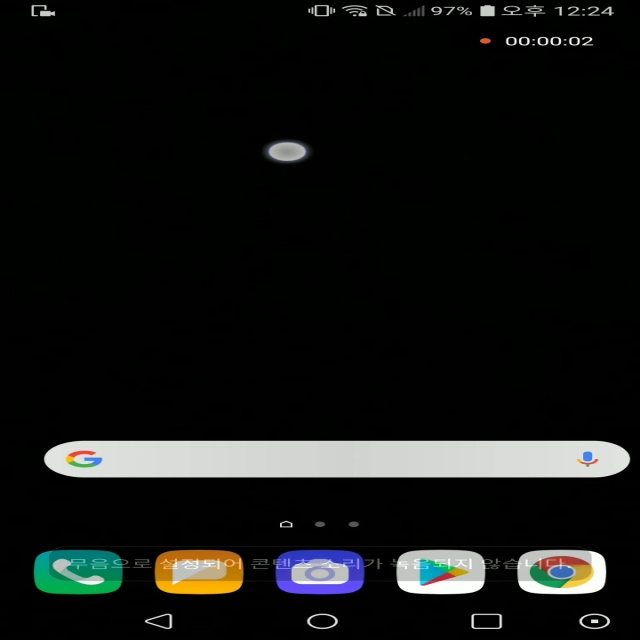Cursor: (267, 142, 312, 164)
